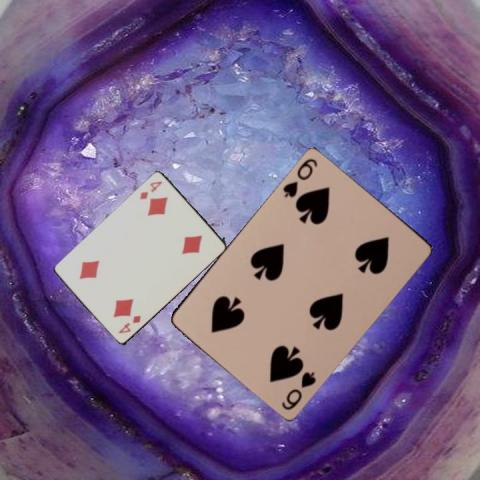4d: (137, 178, 164, 201), (115, 312, 142, 335)
6s: (280, 154, 319, 198), (279, 368, 317, 411)
